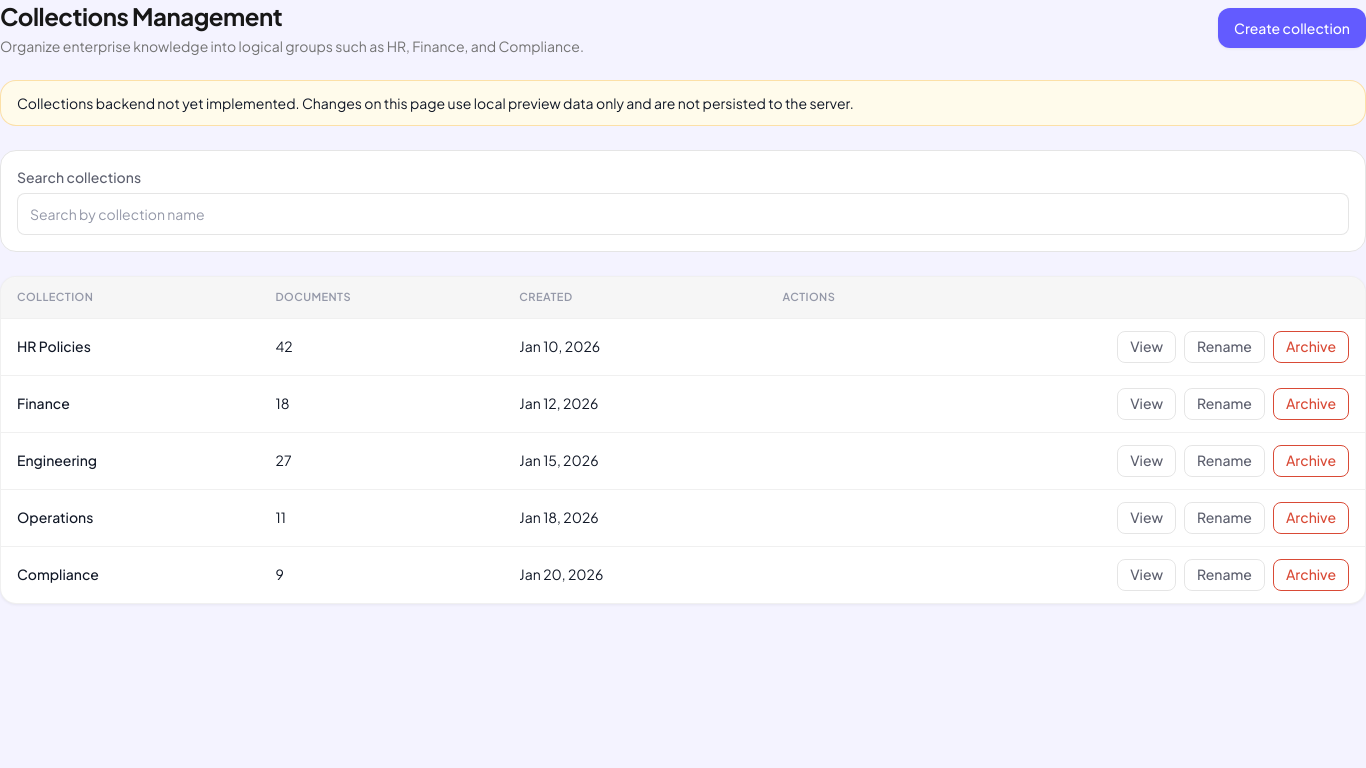
Test: AdminCollectionsPage › opens create collection dialog
Click the button "Create collection" at (1292, 28), box [1218,8,1365,48]
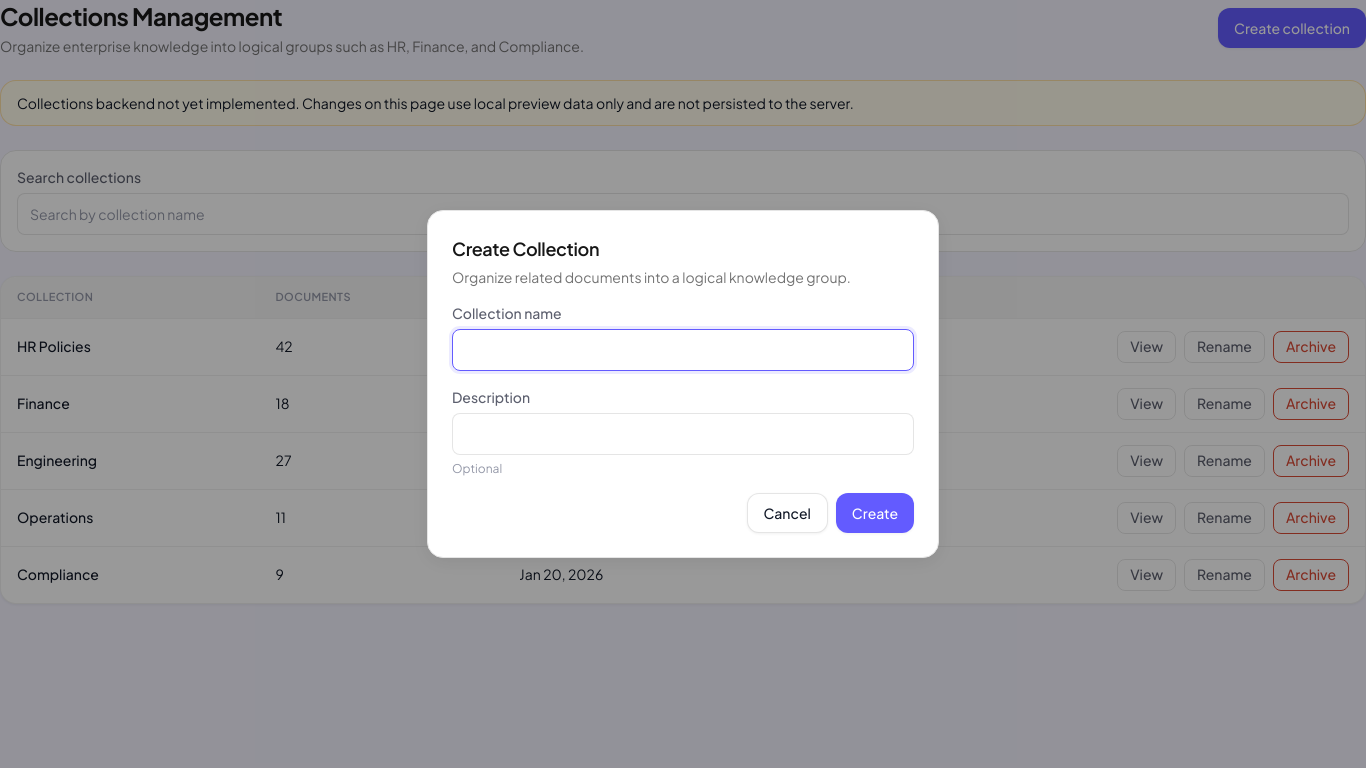
Expected: the dialog "Create Collection" is shown, [427,210,939,558]
